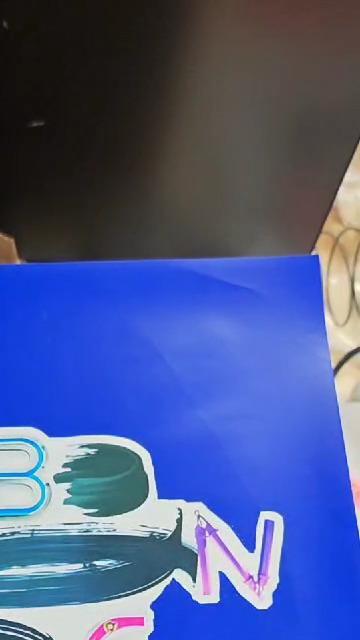B_R1: (0, 423, 322, 640)
